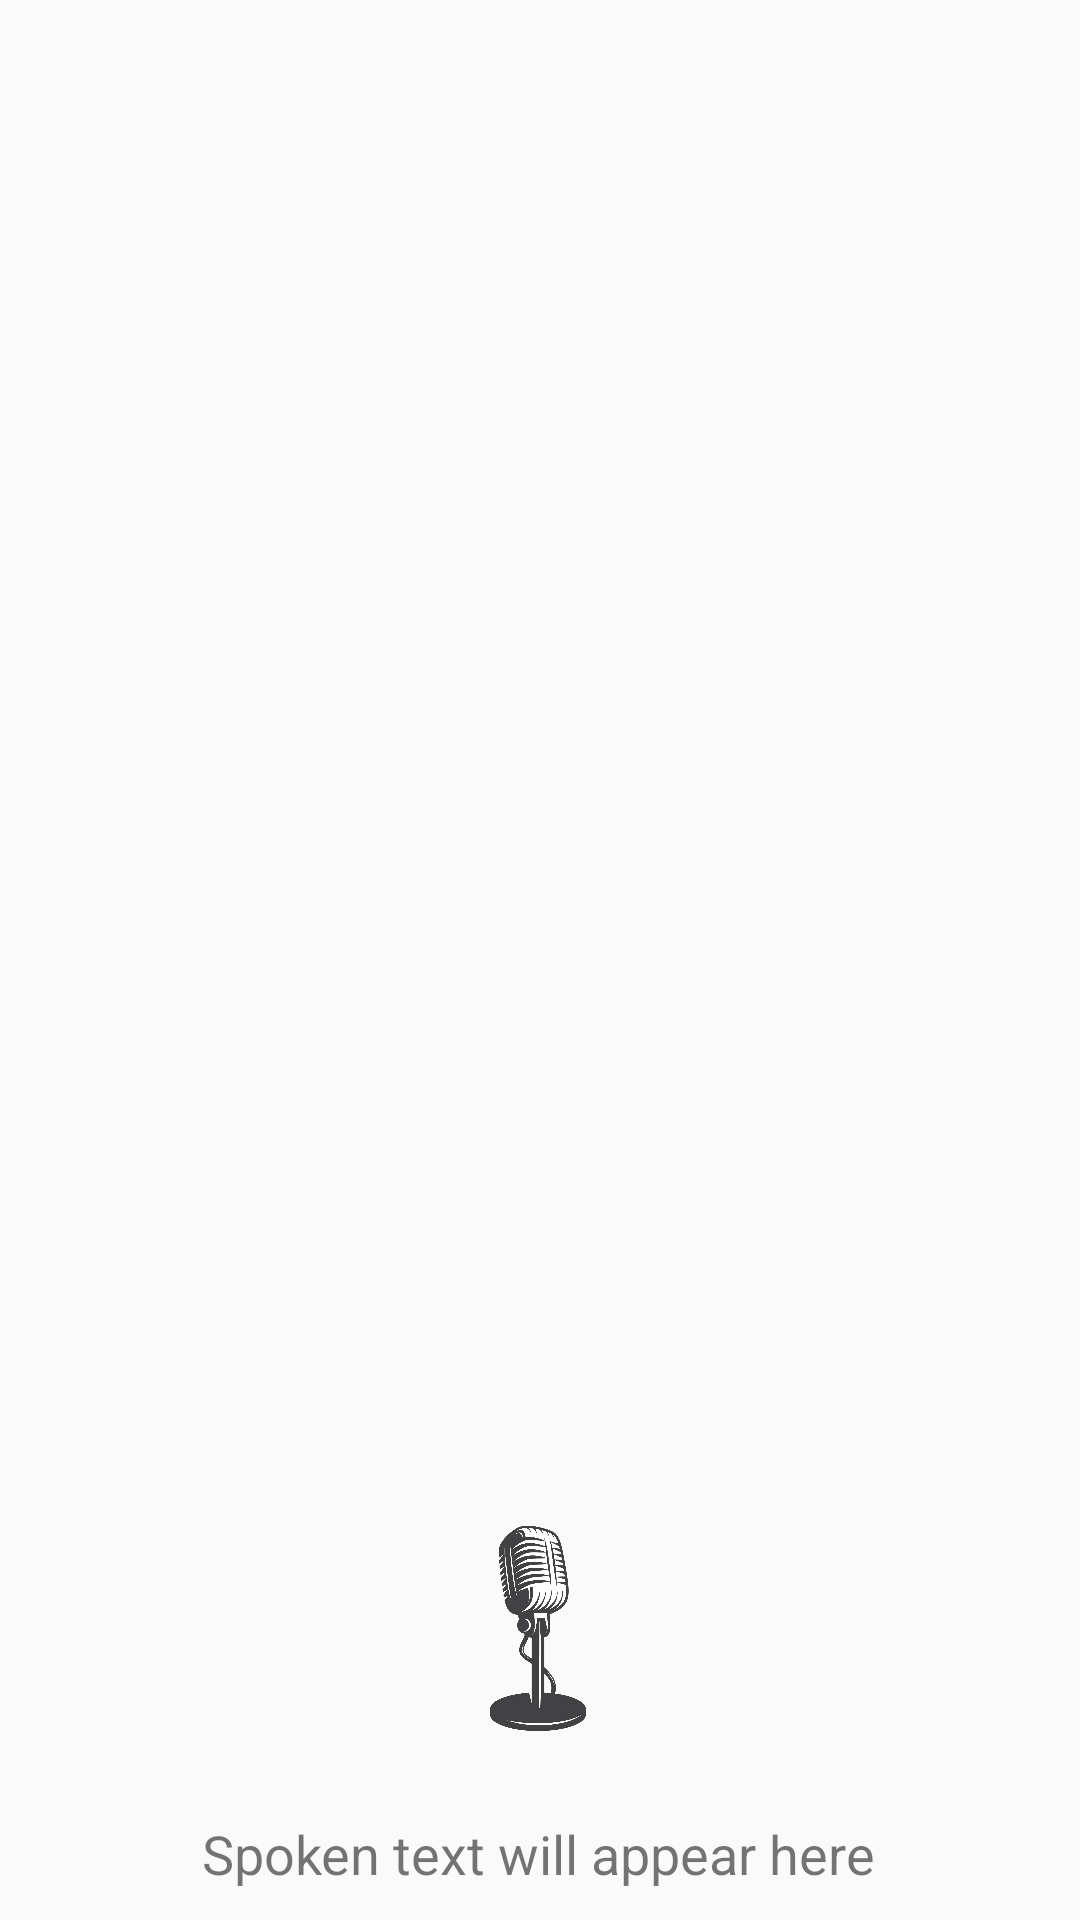

Icons on this 1080*1920 Android screen, each with its box as region(x1, y1, x2, y2):
microphone: region(490, 1526, 586, 1731)
